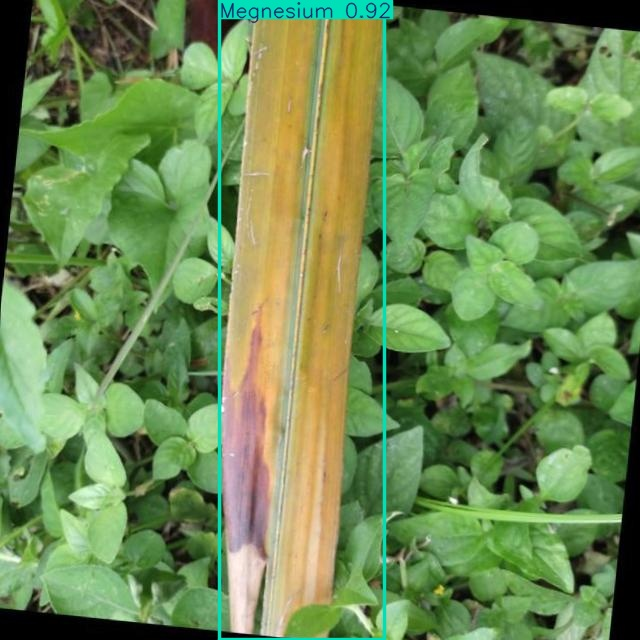Megnesium: (219, 0, 384, 640)
